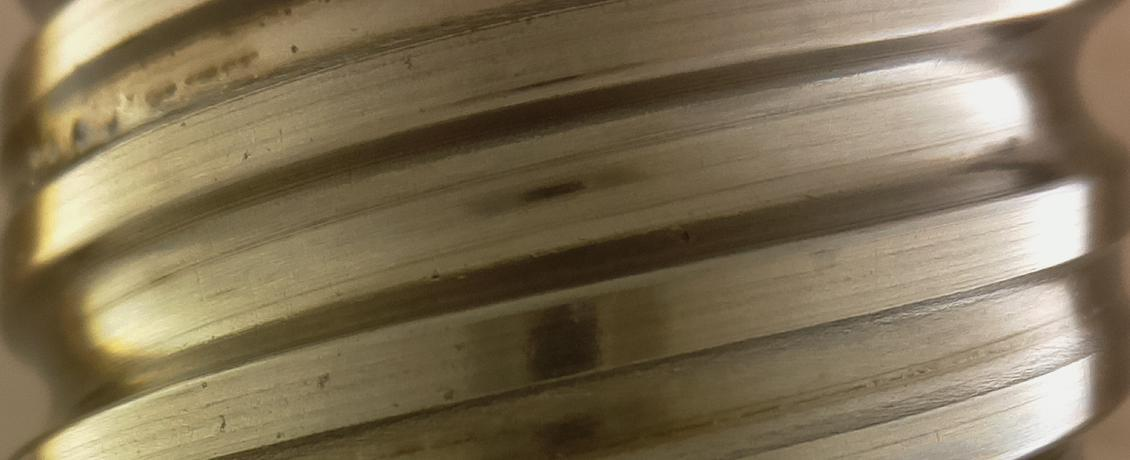pitting: (679, 229, 690, 242)
